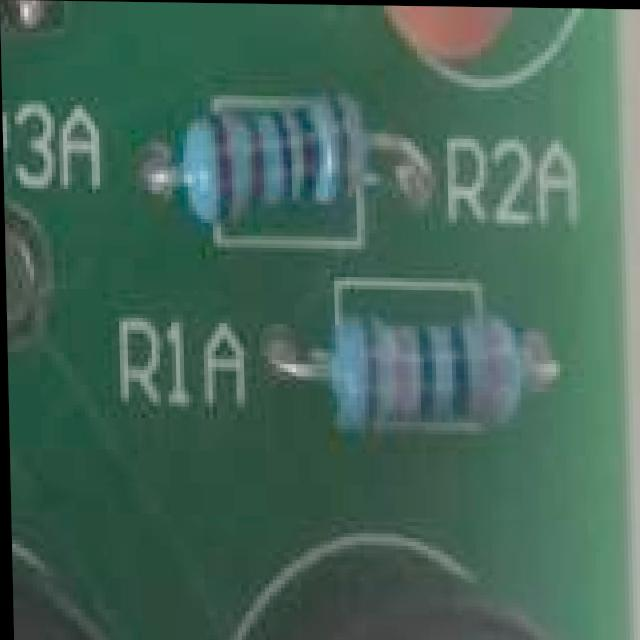IC: (0, 0, 61, 41)
buzzer: (245, 539, 640, 640), (9, 540, 175, 640)
capacitor: (376, 4, 533, 66)
resistor: (170, 110, 386, 216), (314, 328, 525, 430)
